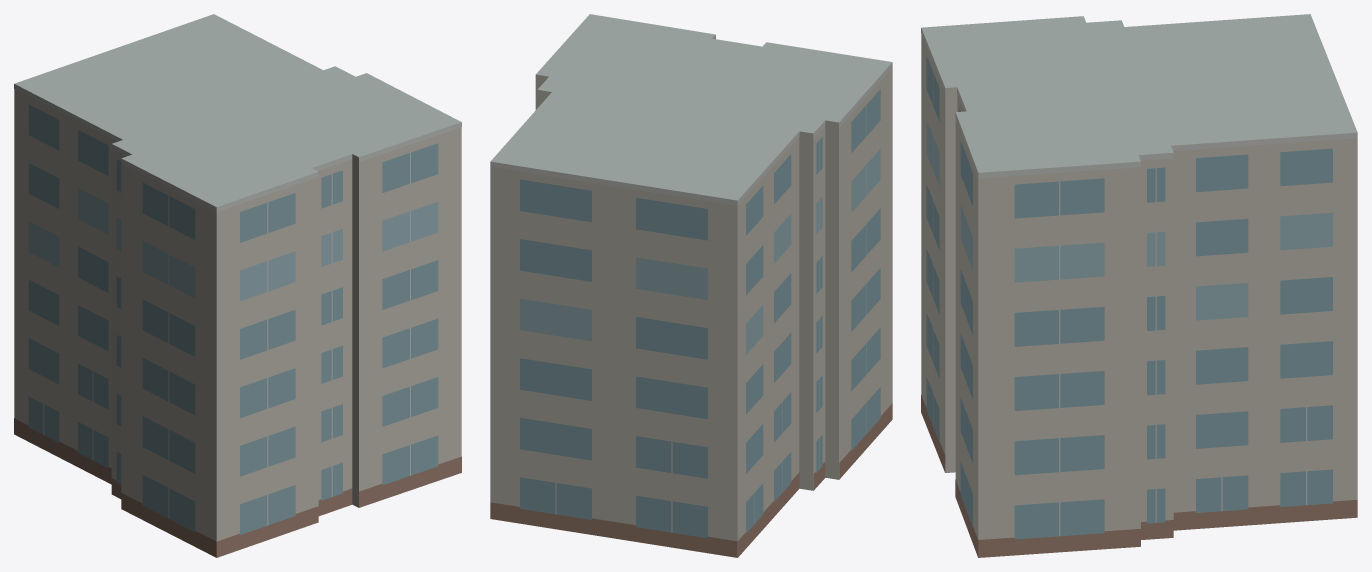
Rendered from survey-upis-32727544.glb.
3 views of the same model, side by side, from view 1: azimuth 30°, elevation 25°; view 2: azimuth 150°, elevation 25°; view 3: azimuth 270°, elevation 25° (orthographic). The views are drawn at different scales.
Visible parts, largest first — view 1: survey-upis-32727544.tmp; view 2: survey-upis-32727544.tmp; view 3: survey-upis-32727544.tmp.
Part boxes in pixels (box(x1,y1,x2,y2)): survey-upis-32727544.tmp: box(14, 14, 461, 557); survey-upis-32727544.tmp: box(490, 14, 892, 557); survey-upis-32727544.tmp: box(921, 14, 1357, 557).
Size of the model in its own units: 14.78 by 16.7 by 17.17.
